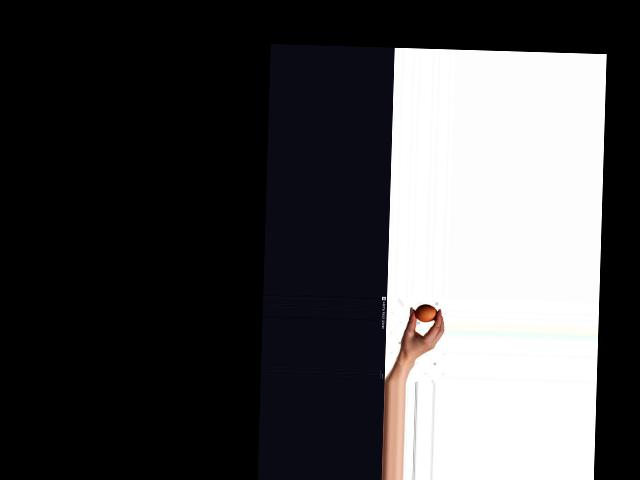egg: (414, 304, 436, 323)
